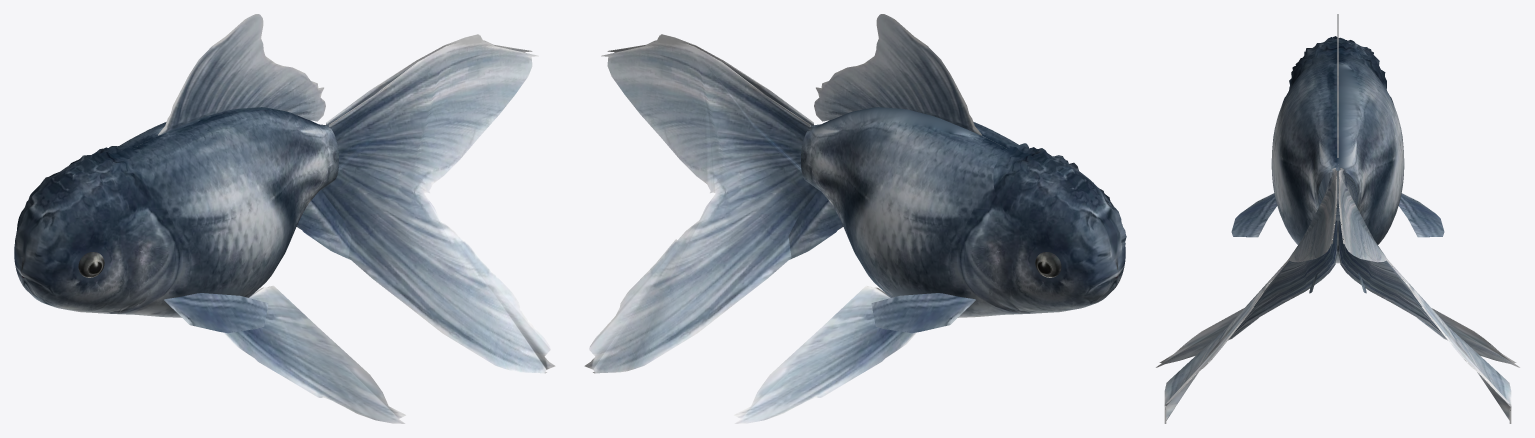
The model's file is seibungyo.glb.
The picture shows the model from 3 angles, left to right: view 1: azimuth 30°, elevation 25°; view 2: azimuth 150°, elevation 25°; view 3: azimuth 270°, elevation 25°; orthographic projection. The views are drawn at different scales.
Parts seen in each view (by area): view 1: caudal_near, body, wen, dorsal, pelvic_near, pectoral_near, gill_near, anal_near, caudal_far, eye_near; view 2: caudal_far, body, wen, dorsal, pelvic_far, pectoral_far, gill_far, anal_far, caudal_near, eye_far; view 3: body, caudal_near, caudal_far, wen, pectoral_near, pectoral_far, pelvic_near, pelvic_far.
Boxes of the visible parts, x1,y1,x2,y2 form: caudal_near: (321, 35, 555, 373); body: (14, 107, 338, 317); wen: (15, 145, 146, 263); dorsal: (158, 14, 325, 135); pelvic_near: (223, 285, 405, 423); pectoral_near: (164, 293, 268, 333); gill_near: (105, 208, 180, 313); anal_near: (297, 190, 351, 259); caudal_far: (326, 34, 532, 126); eye_near: (78, 252, 104, 277); caudal_far: (584, 35, 818, 373); body: (800, 107, 1125, 317); wen: (993, 143, 1126, 263); dorsal: (814, 14, 981, 135); pelvic_far: (734, 285, 916, 423); pectoral_far: (871, 293, 975, 333); gill_far: (959, 208, 1034, 313); anal_far: (788, 190, 842, 259); caudal_near: (607, 34, 813, 126); eye_far: (1035, 252, 1061, 277); body: (1271, 57, 1404, 263); caudal_near: (1164, 168, 1337, 423); caudal_far: (1338, 168, 1511, 423); wen: (1289, 36, 1386, 88); pectoral_near: (1231, 193, 1277, 237); pectoral_far: (1398, 193, 1444, 237); pelvic_near: (1156, 308, 1258, 367); pelvic_far: (1417, 308, 1519, 367).
Bounding box in the file's own units: 0.15 × 0.0982 × 0.0989.
1 material, 1 textured.
